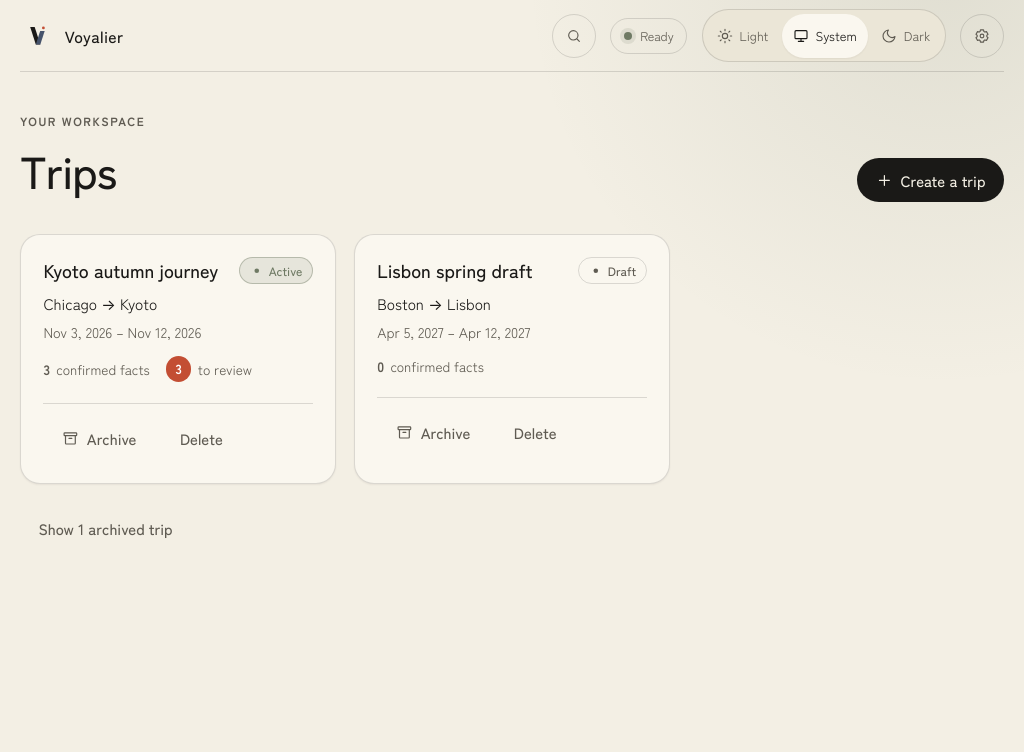
Test: User-flow gap fixes › edits a trip's destination
Click the button with aria-label "Open Kyoto autumn journey" at (131, 270), box left=43, top=257, right=218, bottom=283
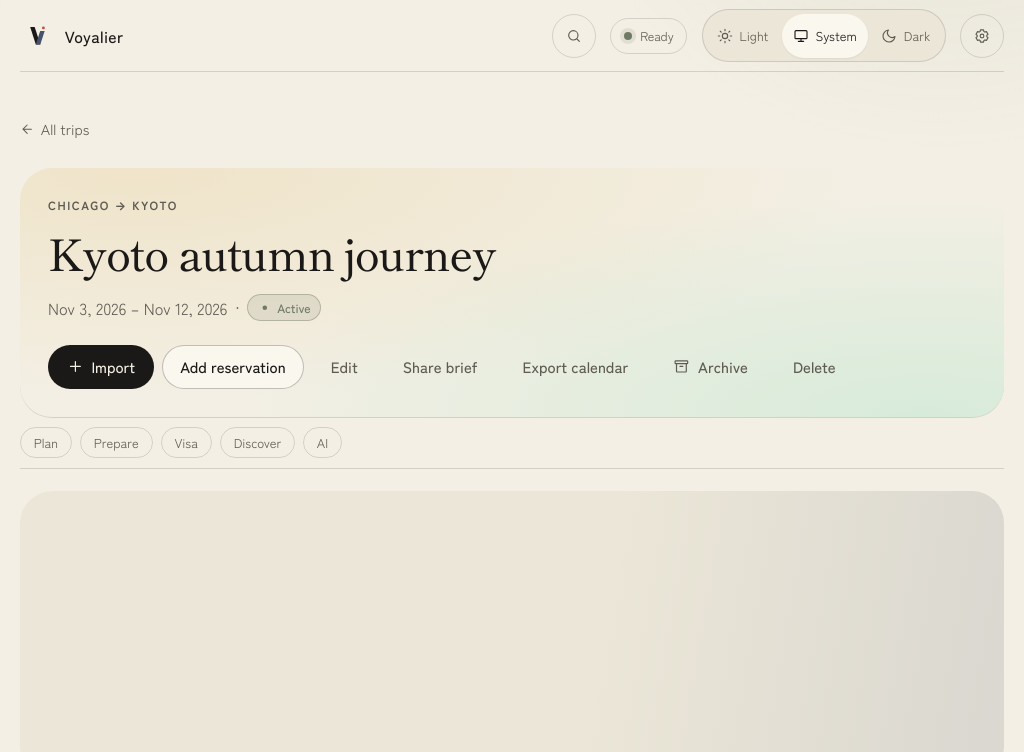
Expected: the heading "Kyoto autumn journey" is shown, left=48, top=221, right=496, bottom=283
Result: the text "Chicago → Kyoto" is shown at left=48, top=196, right=178, bottom=213
Click the button "Edit" at (344, 367), box left=312, top=345, right=376, bottom=389
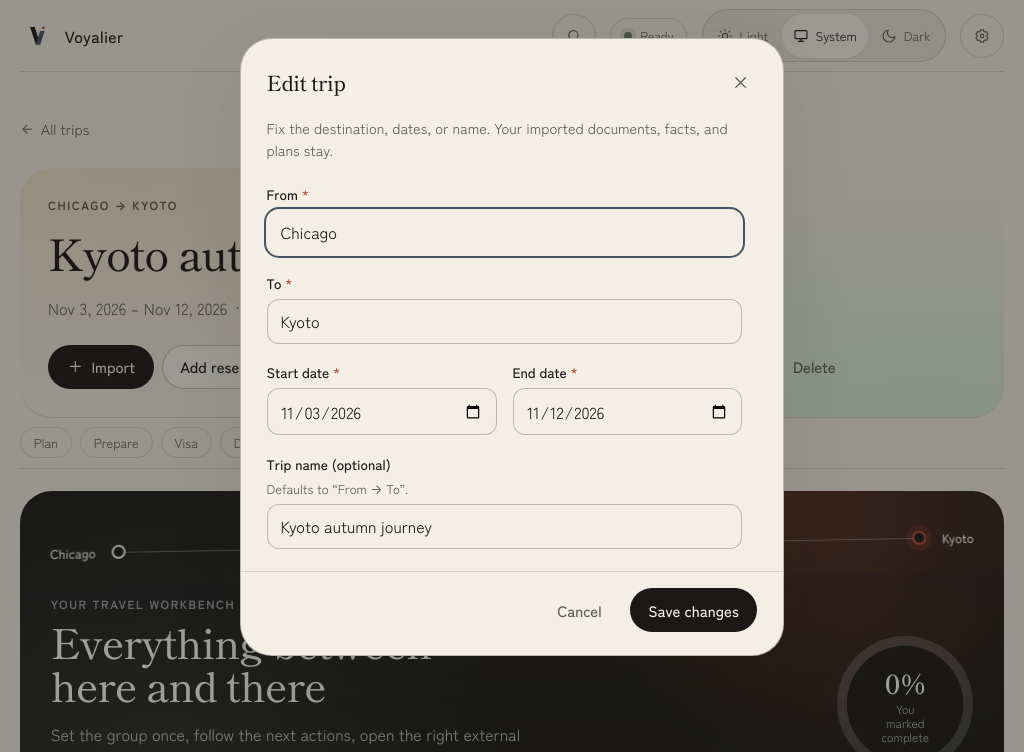
Type "Osaka" into the field labelled "To" at (504, 321), box left=267, top=299, right=742, bottom=344
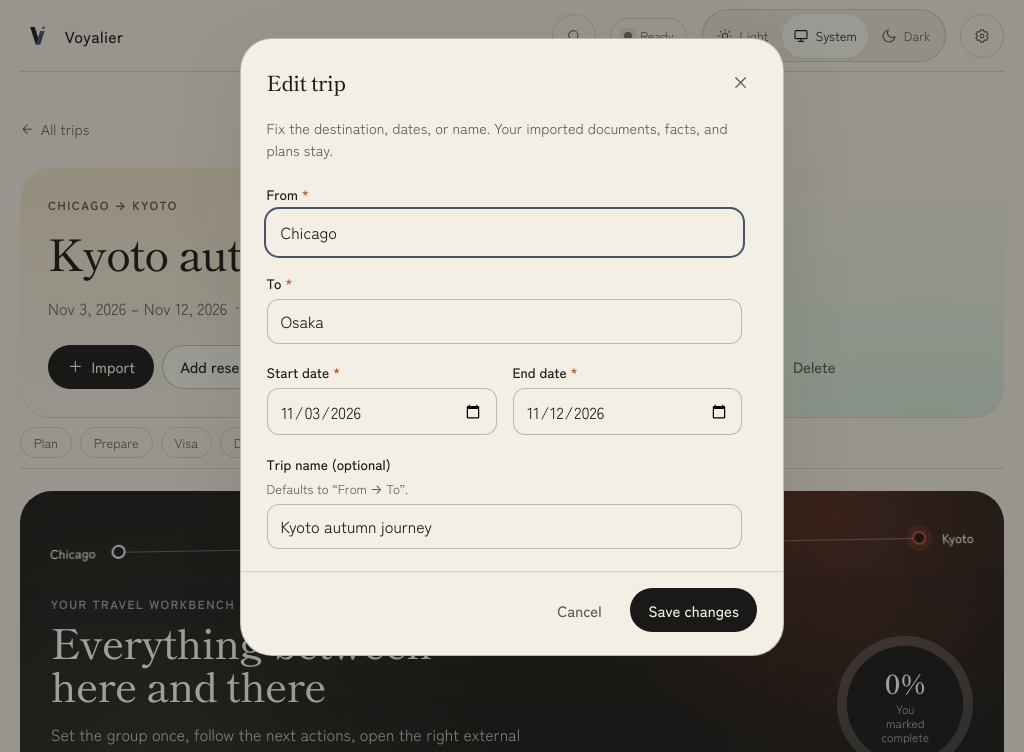
Click the button "Save changes" at (694, 610), box left=630, top=588, right=757, bottom=632
(page scrolled)
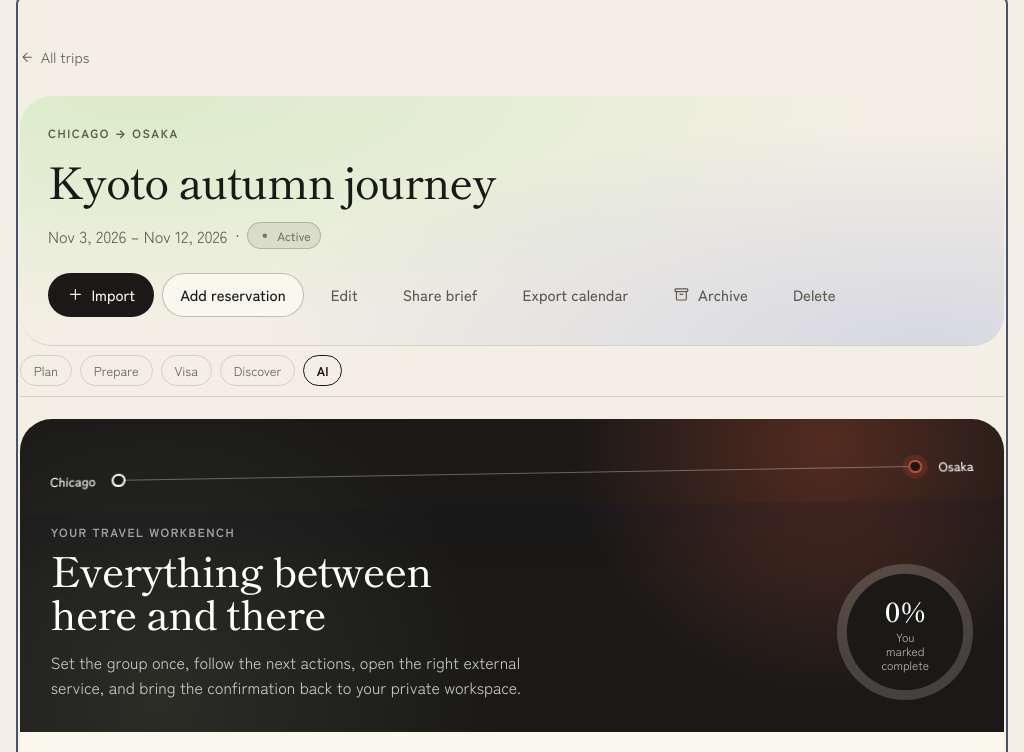
Result: the text "Chicago → Osaka" is shown at left=48, top=124, right=179, bottom=141
